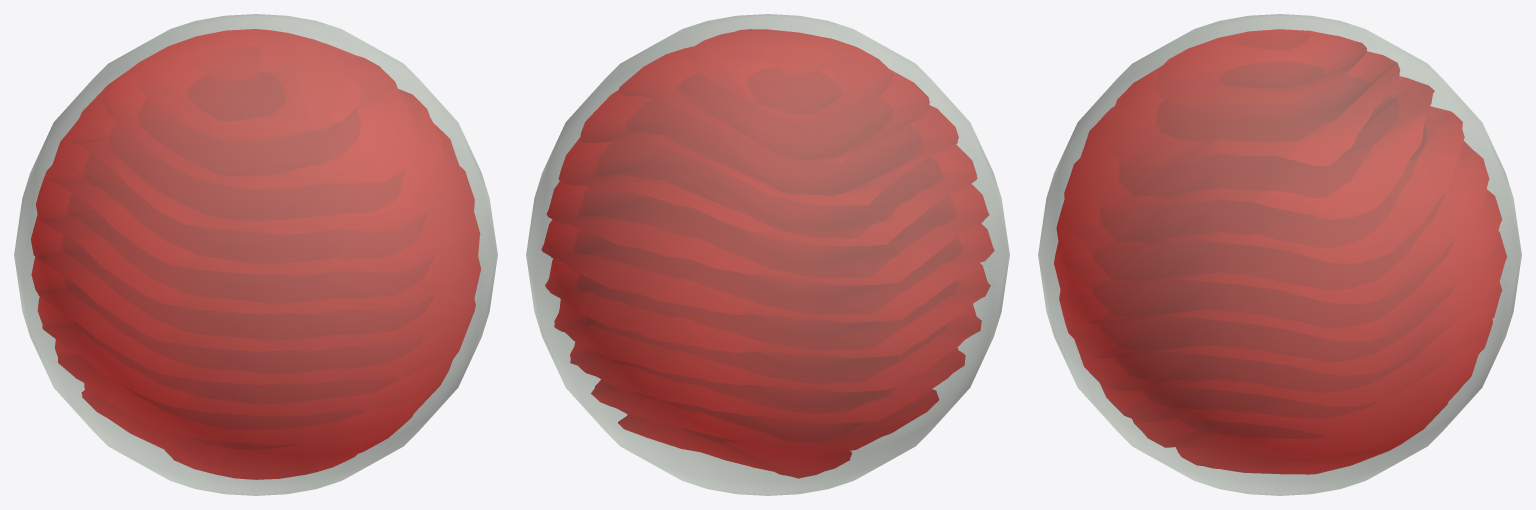
Rendered from Layers - rouge.fbx.
3 renders of one model, left to right at view 1: azimuth 30°, elevation 25°; view 2: azimuth 150°, elevation 25°; view 3: azimuth 270°, elevation 25°, orthographic.
Visible parts, largest first — view 1: SketchUp; view 2: SketchUp; view 3: SketchUp.
Part boxes in pixels (left/top/right/bottom): SketchUp: left=14, top=14, right=497, bottom=495; SketchUp: left=526, top=14, right=1009, bottom=495; SketchUp: left=1038, top=14, right=1521, bottom=495.
Bounding box in the file's own units: 100 × 100 × 100.
